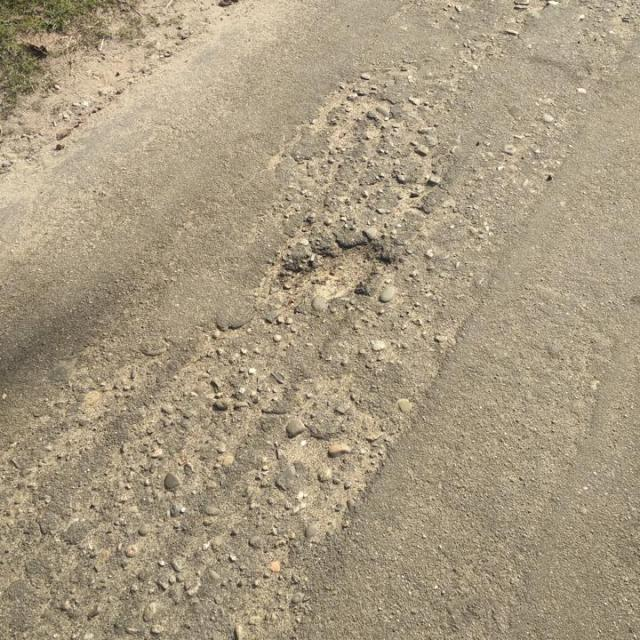Pothole: (286, 236, 396, 304)
